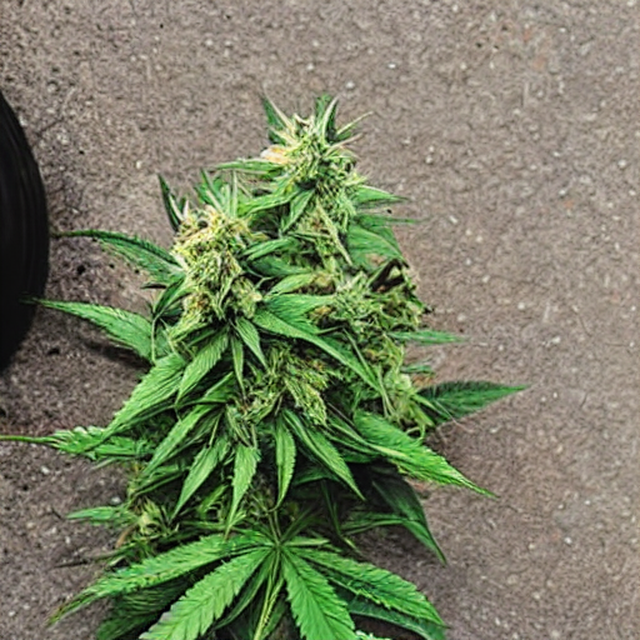Marijuana Plant: (1, 81, 533, 640)
